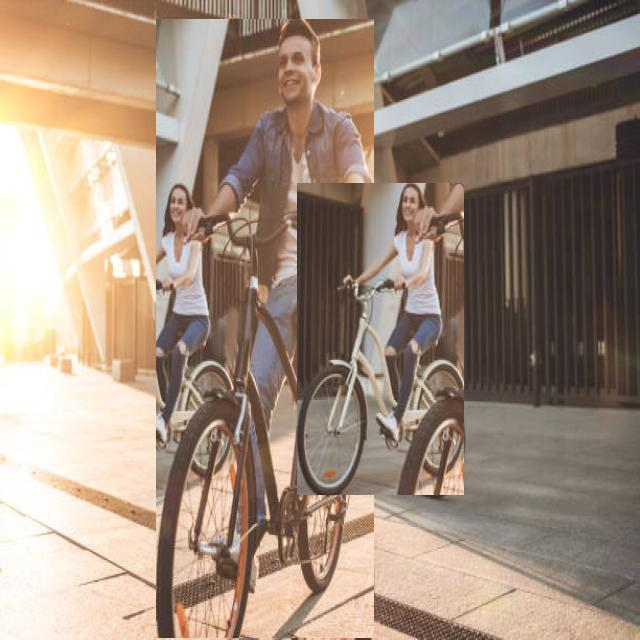bicycle: (156, 19, 374, 638), (298, 184, 464, 495)
